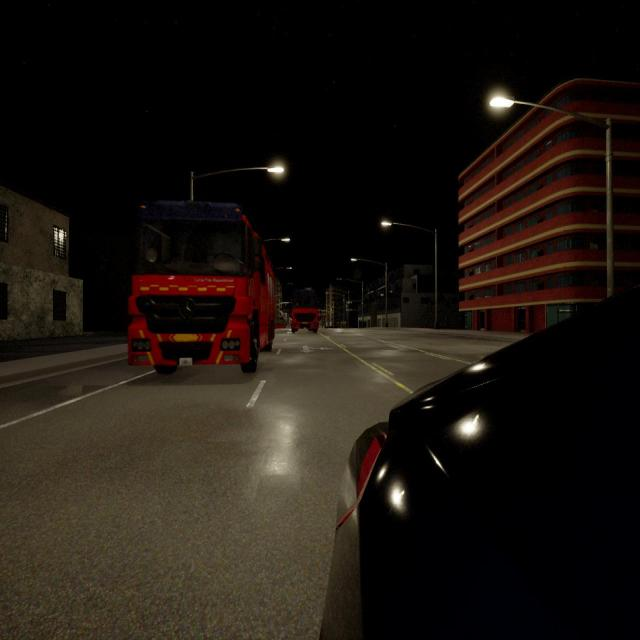Vehicle: (324, 290, 639, 640), (129, 201, 274, 373), (292, 300, 318, 332)
